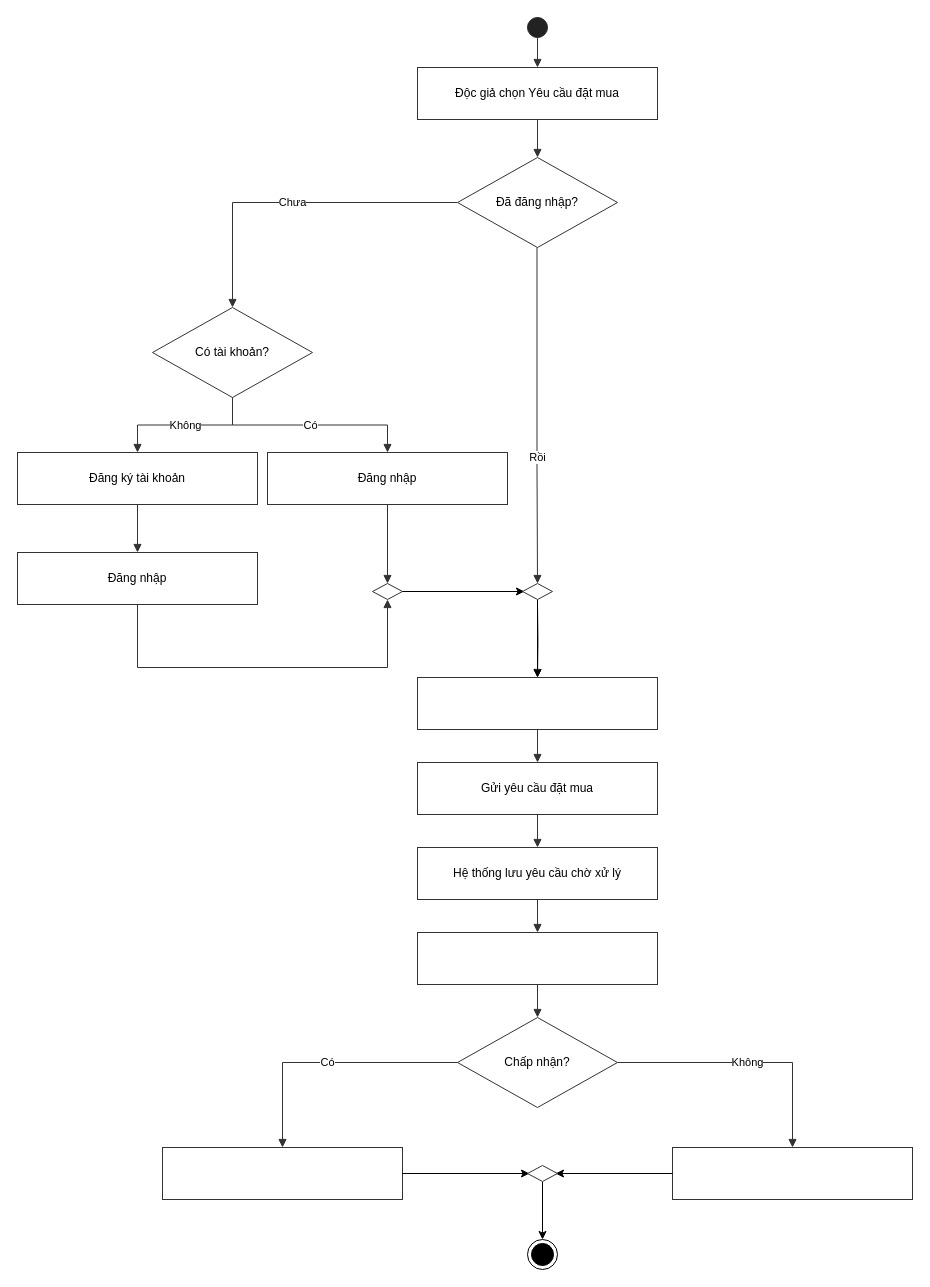
Image size: 930x1287. Some labels were removed from this diagram. Here are the shapes that lost their labels. From the top down, the centre of each, then its label:
At point 537,703: "Nhập tên sách, tác giả, năm xuất bản".
At point 537,958: "Thủ thư xem yêu cầu".
At point 282,1173: "Cập nhật trạng thái chấp nhận".
At point 792,1173: "Cập nhật trạng thái từ chối".
